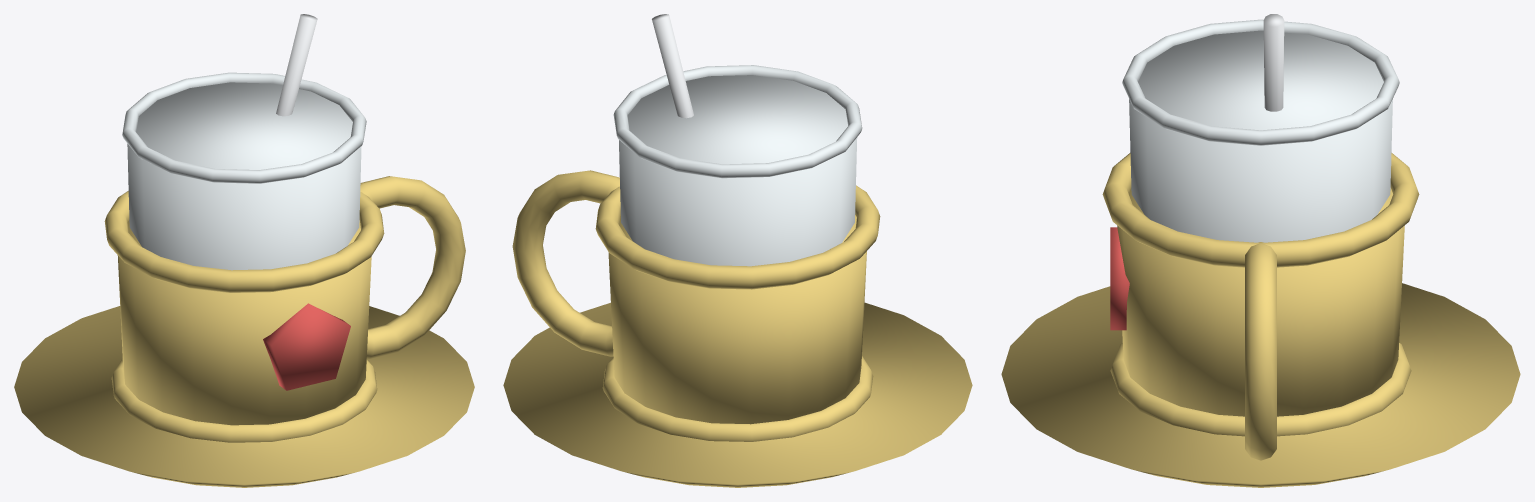
File: tea-glass.glb
3 views of the same model, side by side, from view 1: azimuth 30°, elevation 25°; view 2: azimuth 150°, elevation 25°; view 3: azimuth 270°, elevation 25° (orthographic). The views are drawn at different scales.
Parts seen in each view (by area): view 1: Cup_Holder, Tea_Spoon; view 2: Cup_Holder, Tea_Spoon; view 3: Cup_Holder, Tea_Spoon.
Part boxes in pixels (<box>): Cup_Holder: <box>14,72,474,487</box>; Tea_Spoon: <box>276,14,317,116</box>; Cup_Holder: <box>503,65,972,487</box>; Tea_Spoon: <box>652,14,693,118</box>; Cup_Holder: <box>1001,19,1520,487</box>; Tea_Spoon: <box>1263,14,1284,111</box>.
Bounding box in the file's own units: 0.42 × 0.3578 × 0.4.
